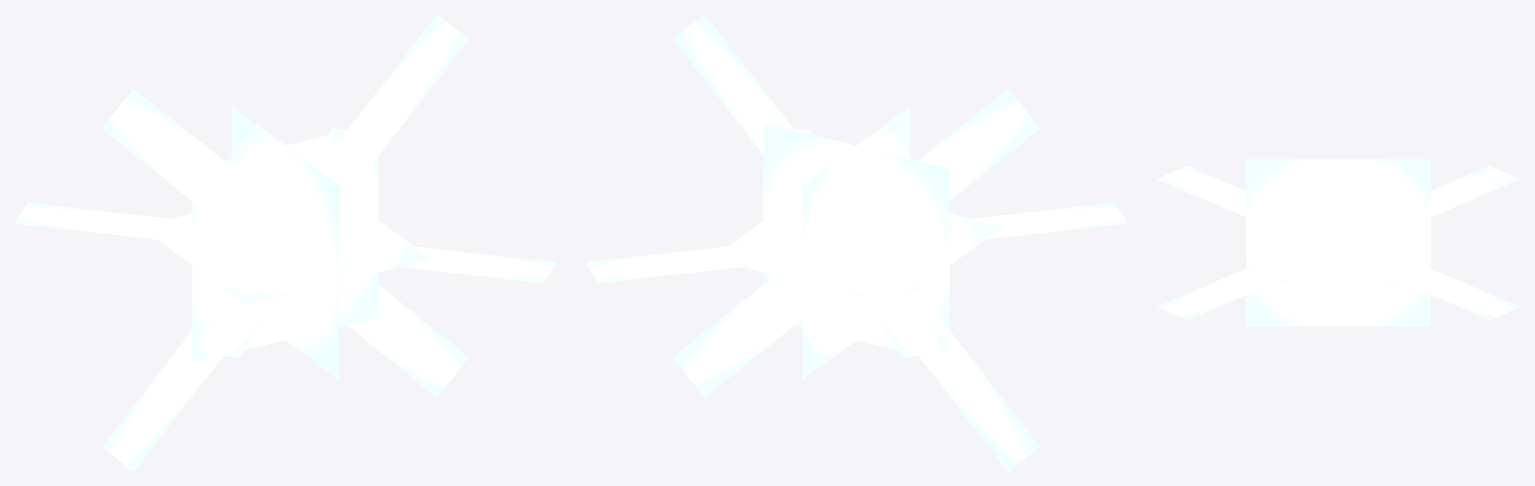
File: sfx_weapon_glorb_A0002_R.glb
3 renders of one model, left to right at view 1: azimuth 30°, elevation 25°; view 2: azimuth 150°, elevation 25°; view 3: azimuth 270°, elevation 25°, orthographic. The views are drawn at different scales.
Parts seen in each view (by area): view 1: sfx_weapon_glorb_A0002_R_obj1; view 2: sfx_weapon_glorb_A0002_R_obj1; view 3: sfx_weapon_glorb_A0002_R_obj1.
Boxes of the visible parts, x1,y1,x2,y2 form: sfx_weapon_glorb_A0002_R_obj1: (14, 14, 556, 471); sfx_weapon_glorb_A0002_R_obj1: (585, 14, 1127, 471); sfx_weapon_glorb_A0002_R_obj1: (1156, 159, 1520, 326).
Bounding box in the file's own units: 0.6146 × 0.6146 × 0.6146.
Materials: 1 (1 with a texture image).
